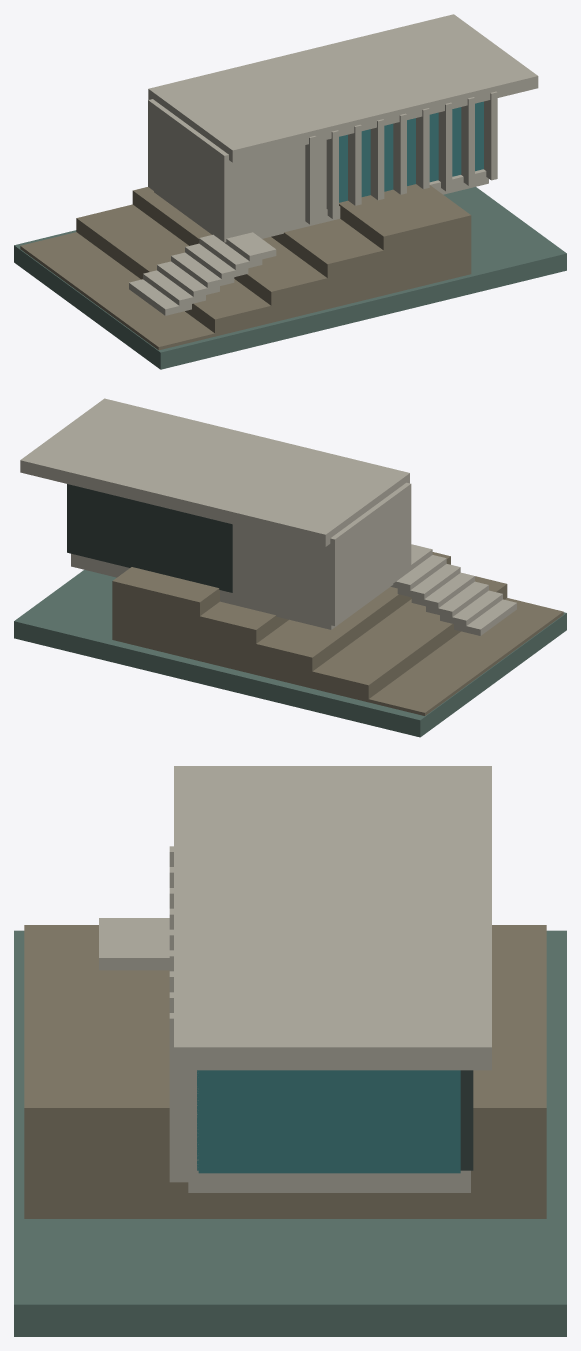
File: datum.glb
3 renders of one model, top to bottom at view 1: azimuth 30°, elevation 25°; view 2: azimuth 150°, elevation 25°; view 3: azimuth 270°, elevation 25°, orthographic. The views are drawn at different scales.
Visible parts, largest first — view 1: datum; view 2: datum; view 3: datum.
Boxes of the visible parts, x1=… form: datum: x1=14, y1=14, x2=566, y2=369; datum: x1=14, y1=398, x2=566, y2=737; datum: x1=14, y1=766, x2=566, y2=1336.
Bounding box in the file's own units: 5.37 × 1.96 × 3.25.
